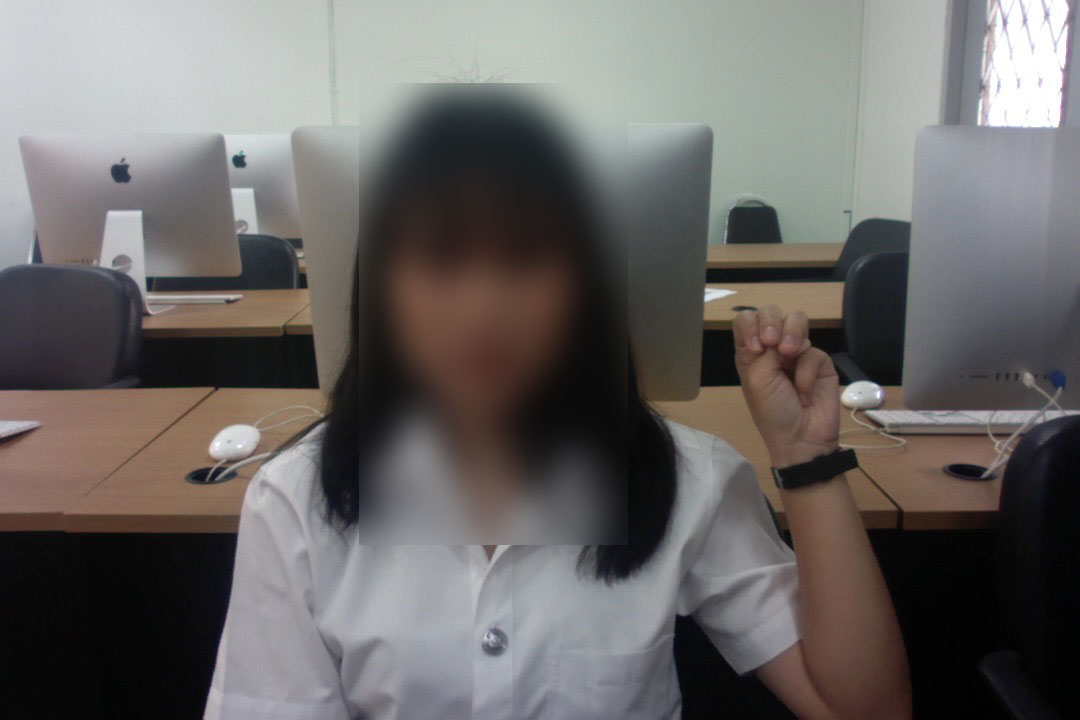mor: (731, 301, 845, 461)
